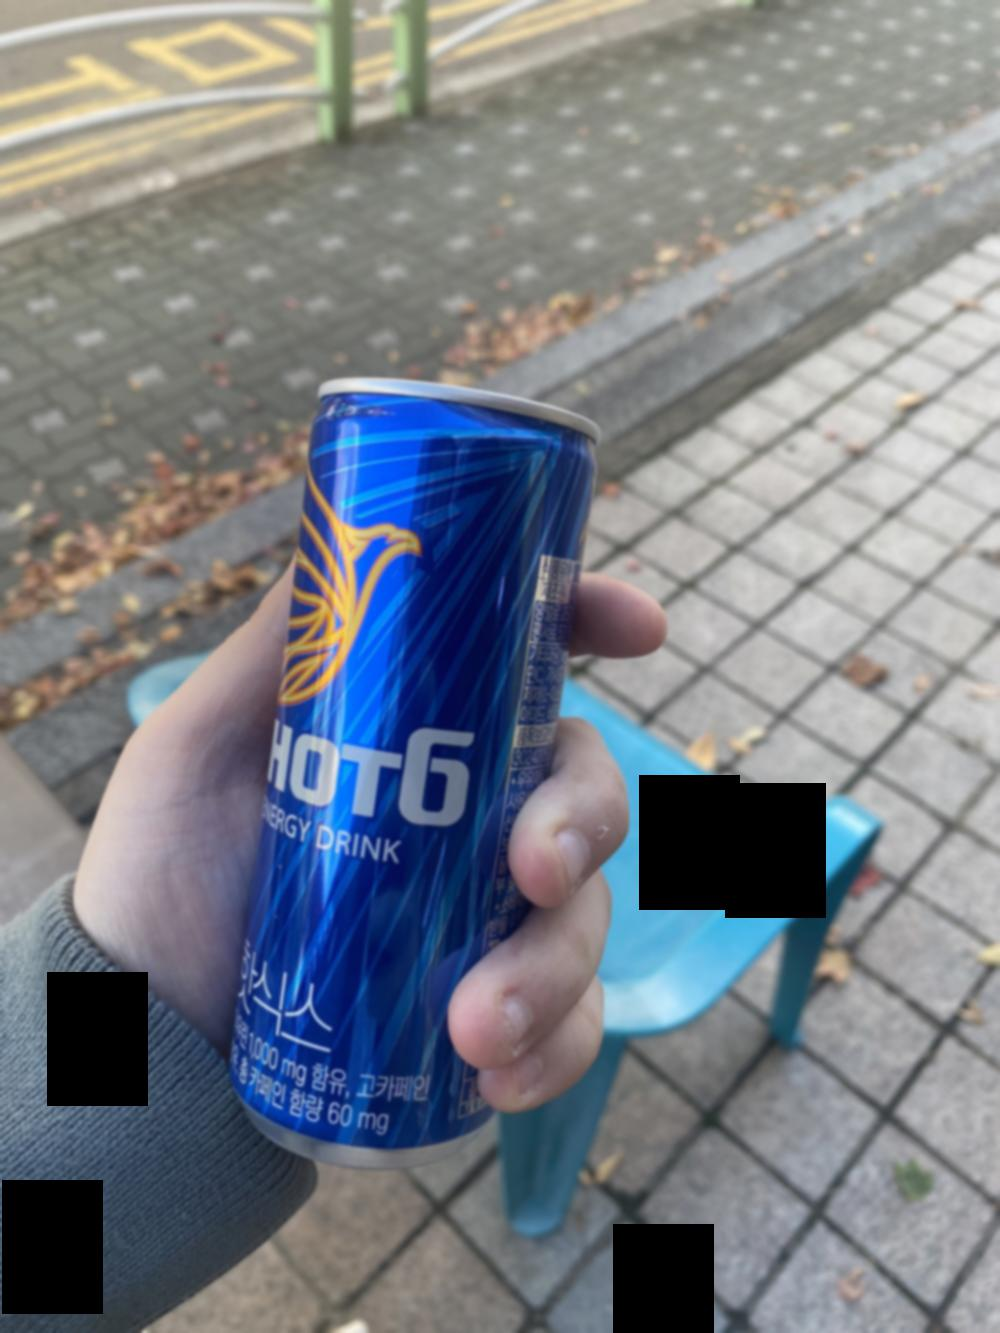hotsix_org: (258, 365, 593, 1160)
